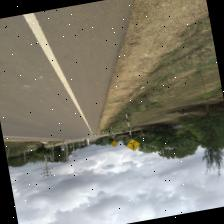yellowboard: (122, 140, 138, 152)
